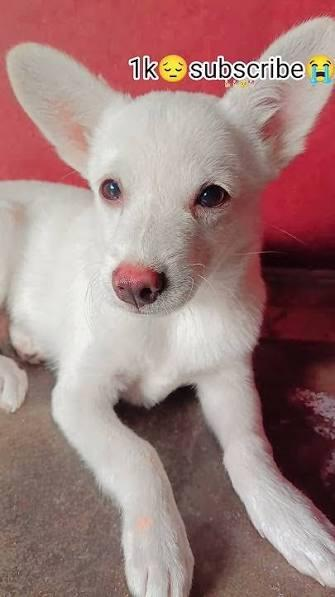puppy-dog: (0, 15, 335, 597)
